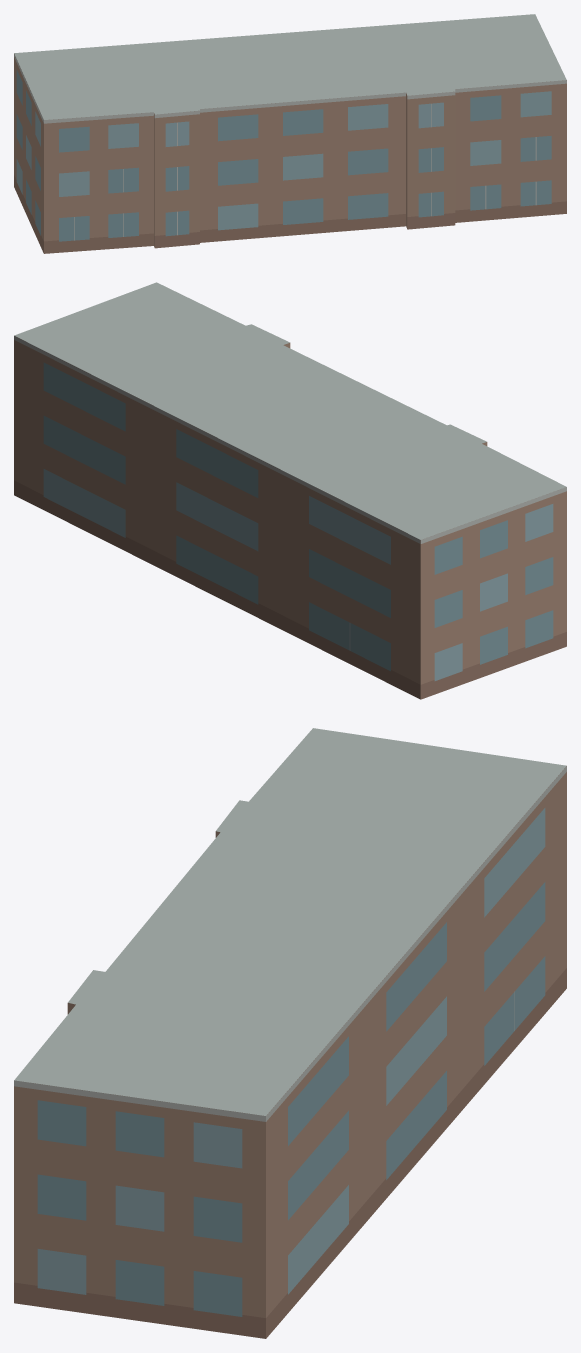
Rendered from survey-upis-32753575.glb.
3 views of the same model, one above another, from view 1: azimuth 30°, elevation 25°; view 2: azimuth 150°, elevation 25°; view 3: azimuth 270°, elevation 25° (orthographic). The views are drawn at different scales.
Parts seen in each view (by area): view 1: survey-upis-32753575.tmp; view 2: survey-upis-32753575.tmp; view 3: survey-upis-32753575.tmp.
Part boxes in pixels (x1,y1,x2,y2): survey-upis-32753575.tmp: (14, 14, 566, 253); survey-upis-32753575.tmp: (14, 282, 566, 699); survey-upis-32753575.tmp: (14, 728, 566, 1338).
Bounding box in the file's own units: 34.18 × 9.15 × 20.58.
